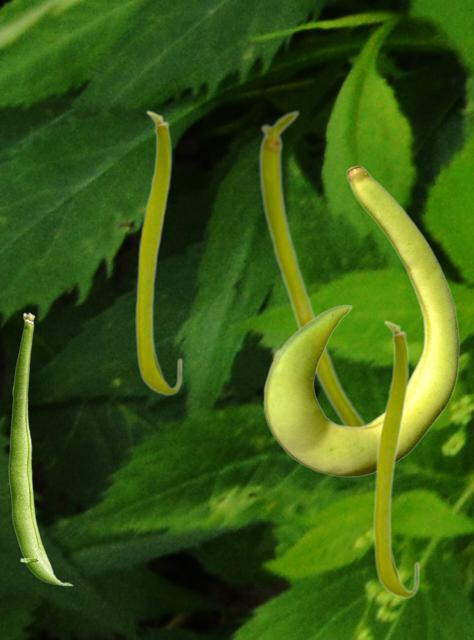french_bean: (263, 165, 459, 476), (258, 109, 366, 425), (8, 312, 73, 585), (134, 109, 182, 395), (372, 319, 419, 598)
